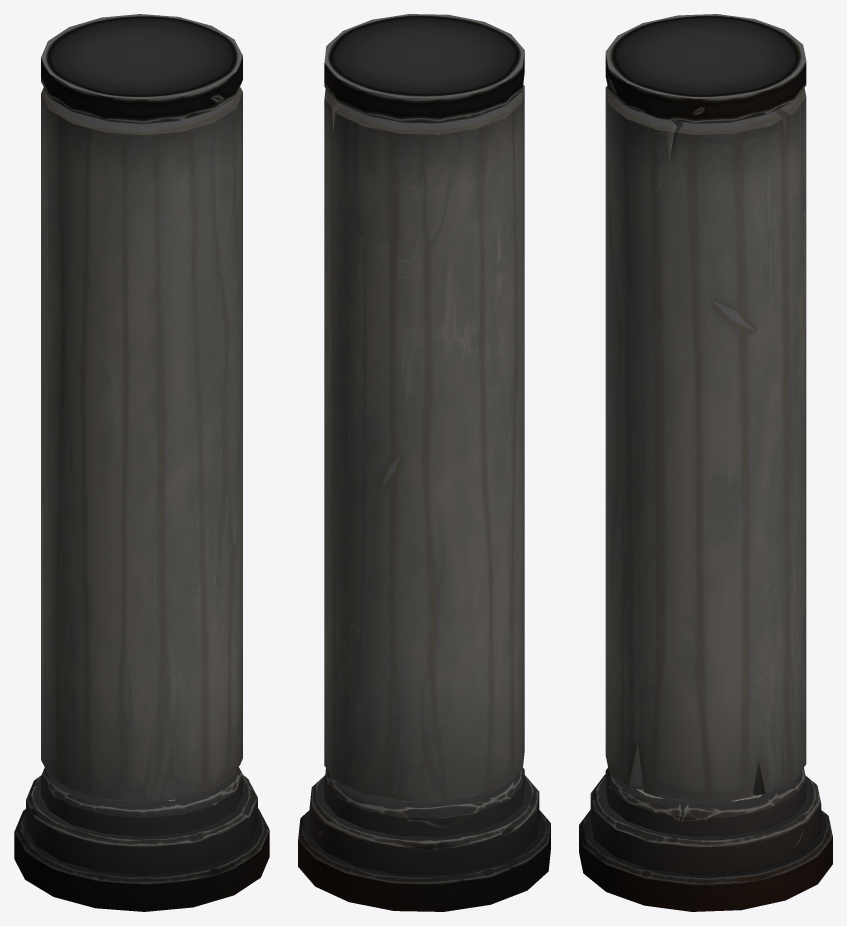
File: F_Pilar_1.fbx
3 renders of one model, left to right at view 1: azimuth 30°, elevation 25°; view 2: azimuth 150°, elevation 25°; view 3: azimuth 270°, elevation 25°, orthographic.
Parts seen in each view (by area): view 1: Cylinder.001; view 2: Cylinder.001; view 3: Cylinder.001.
Boxes of the visible parts, <box> form: Cylinder.001: <box>14,14,269,911</box>; Cylinder.001: <box>298,14,550,911</box>; Cylinder.001: <box>579,14,832,911</box>.
Size of the model in its own units: 1.25 by 4.36 by 1.25.
